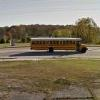Bus: (27, 32, 89, 56)
